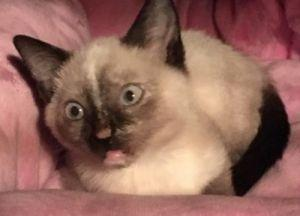siamese: (9, 1, 196, 175)
